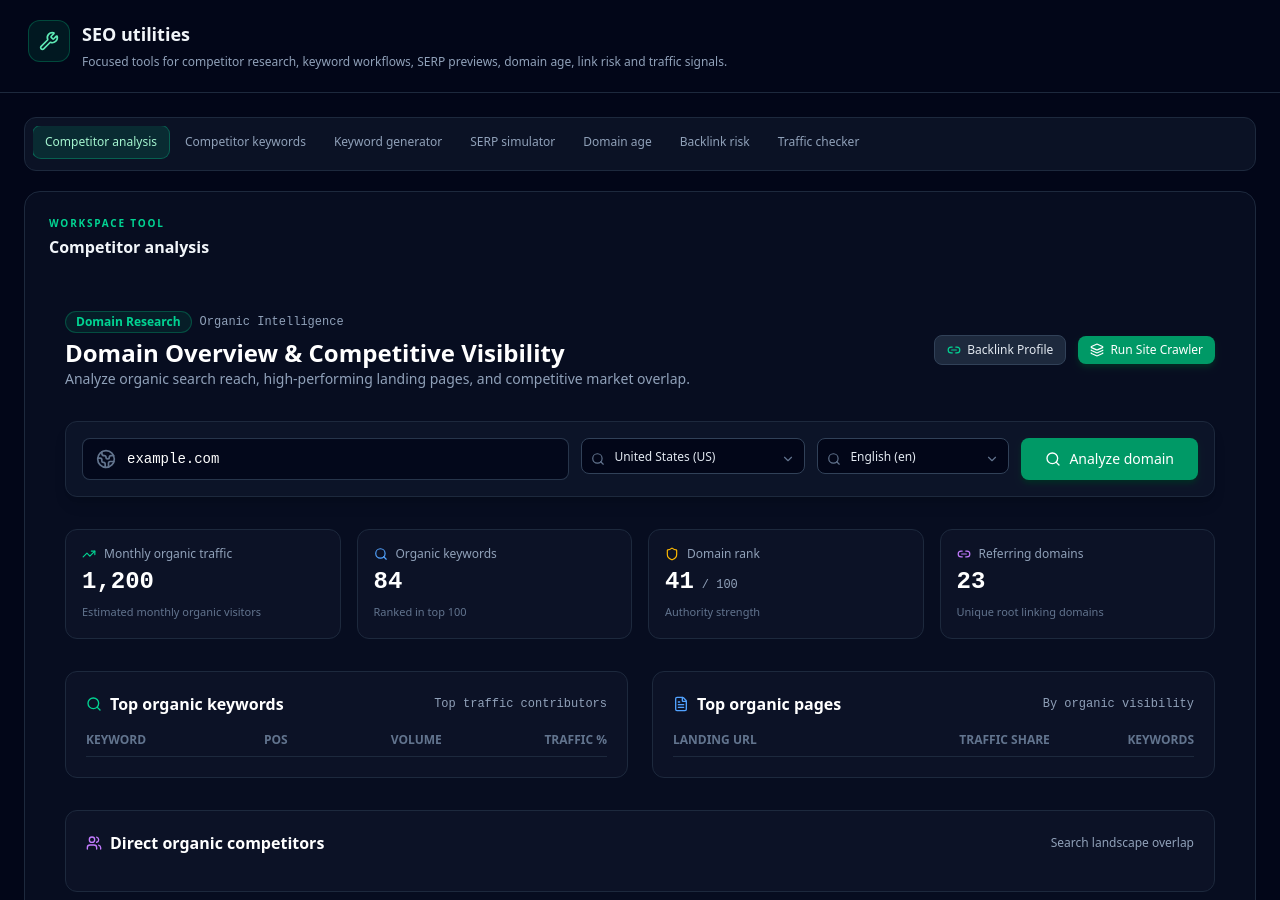
Scenario: SEO utilities workspace route › keeps the traffic checker as a dedicated live-metrics workflow
Click the tab "Traffic checker" at coordinates (819, 142), box [766,126,871,158]
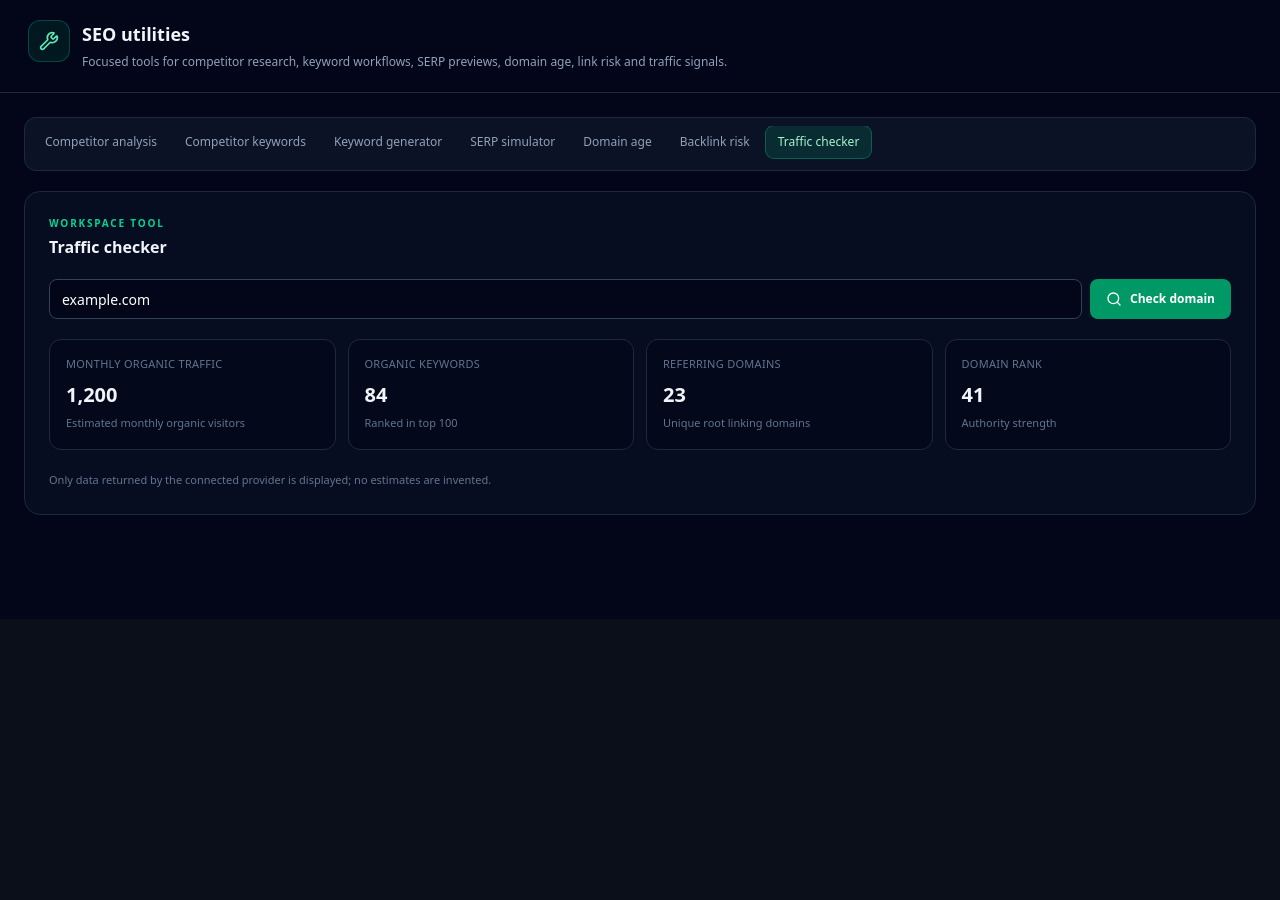
Expected: the panel shows "1,200", [66,380,118,408]
Expected: the text "Top organic keywords" is gone
